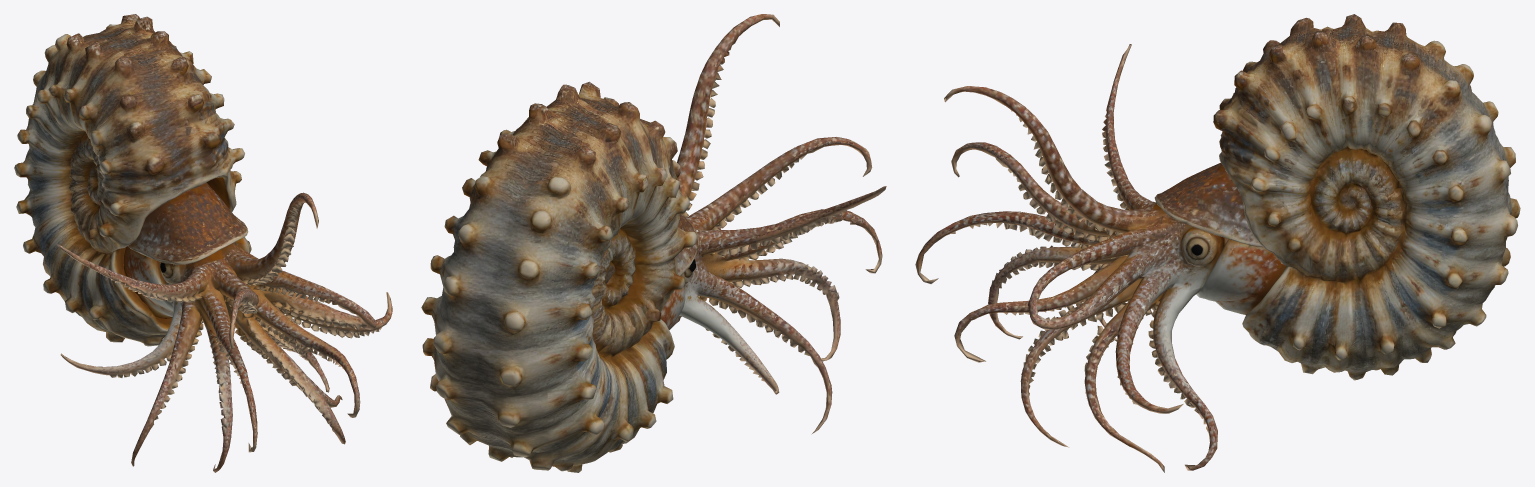
Rendered from ceratites.preview.glb.
3 renders of one model, left to right at view 1: azimuth 30°, elevation 25°; view 2: azimuth 150°, elevation 25°; view 3: azimuth 270°, elevation 25°, orthographic. The views are drawn at different scales.
Parts seen in each view (by area): view 1: tripo_node_bfa5ec0a-0d0d-4dbe-9ed6-c9e9a9a9f420.001; view 2: tripo_node_bfa5ec0a-0d0d-4dbe-9ed6-c9e9a9a9f420.001; view 3: tripo_node_bfa5ec0a-0d0d-4dbe-9ed6-c9e9a9a9f420.001.
Part boxes in pixels (x1,y1,x2,y2): tripo_node_bfa5ec0a-0d0d-4dbe-9ed6-c9e9a9a9f420.001: [14, 14, 392, 472]; tripo_node_bfa5ec0a-0d0d-4dbe-9ed6-c9e9a9a9f420.001: [421, 14, 886, 472]; tripo_node_bfa5ec0a-0d0d-4dbe-9ed6-c9e9a9a9f420.001: [915, 14, 1520, 472].
Bounding box in the file's own units: 0.7504 × 0.6946 × 1.
Materials: 1 (1 with a texture image).
